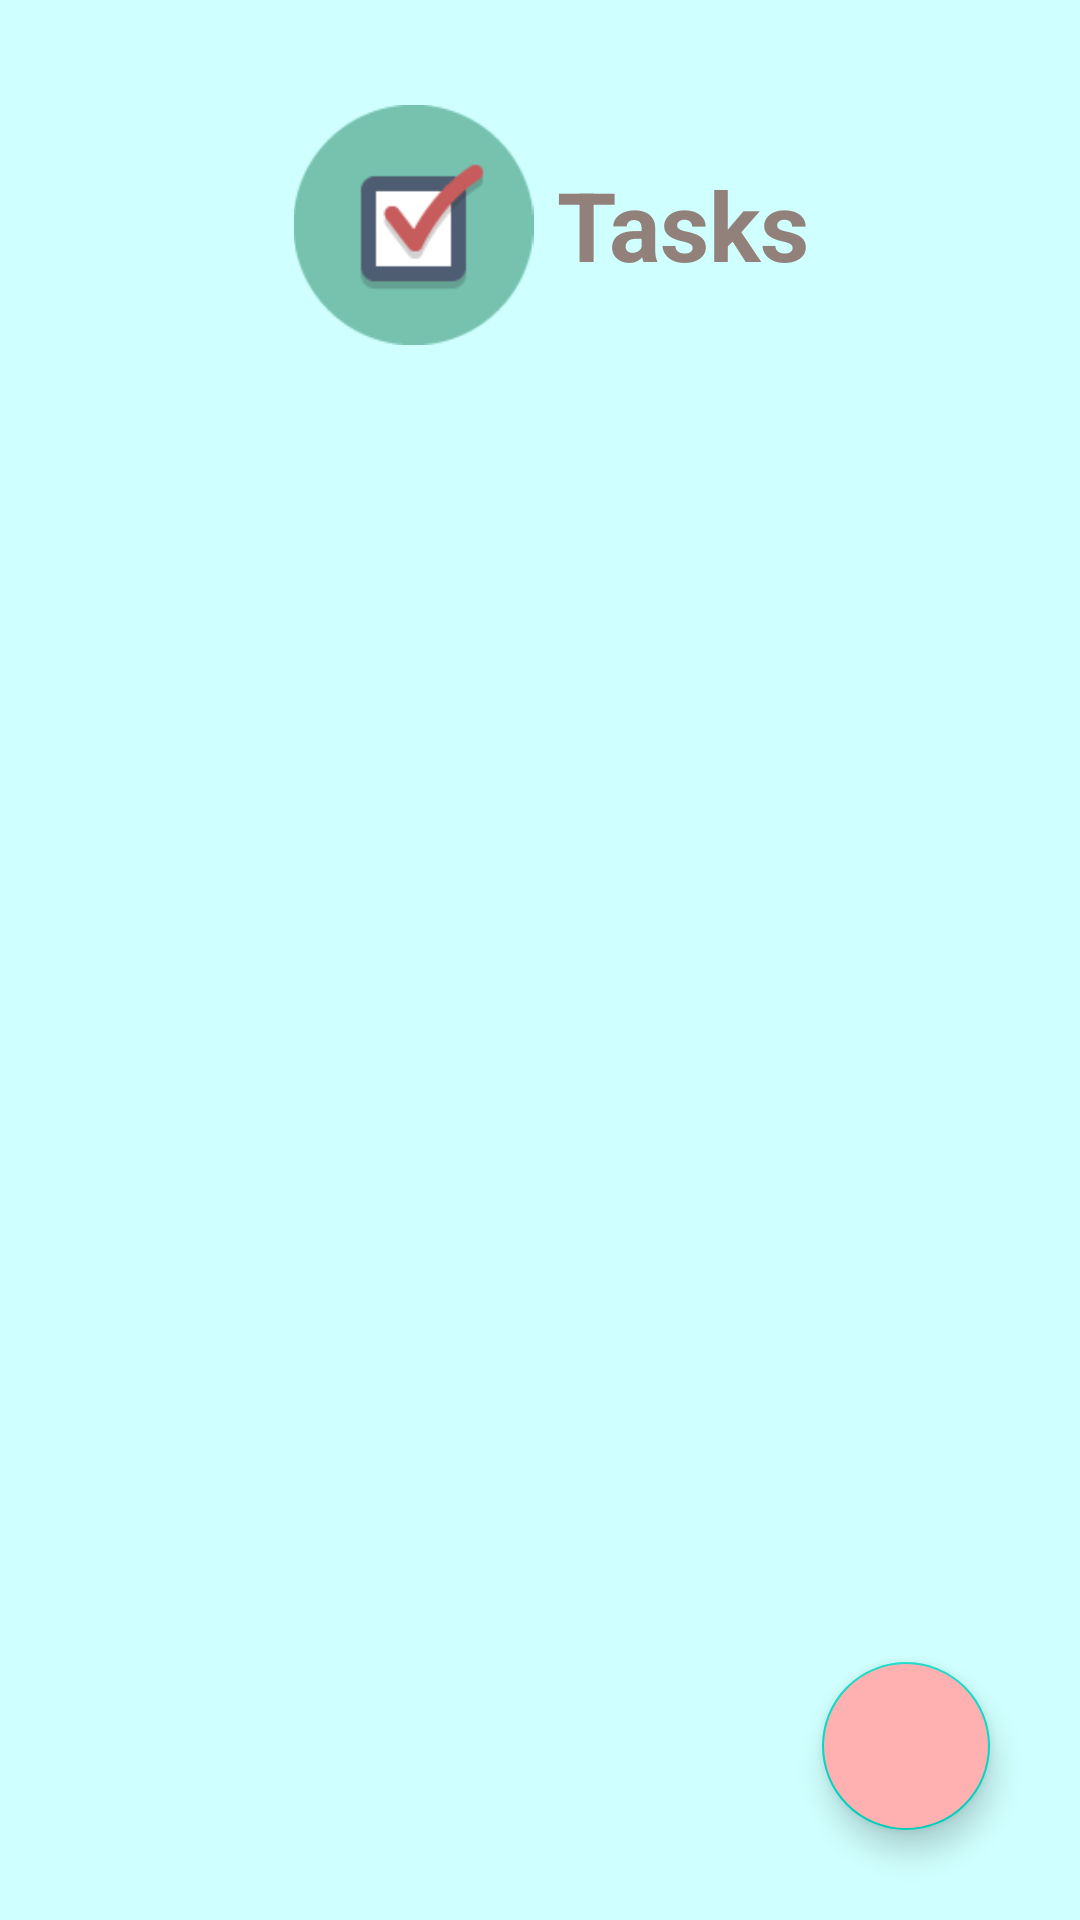

Icon bounding boxes for this 1080px x 1920px phone screenshot, format [left=x1, top=y1, right=x2, bottom=y2]:
check: [left=294, top=105, right=534, bottom=345]
